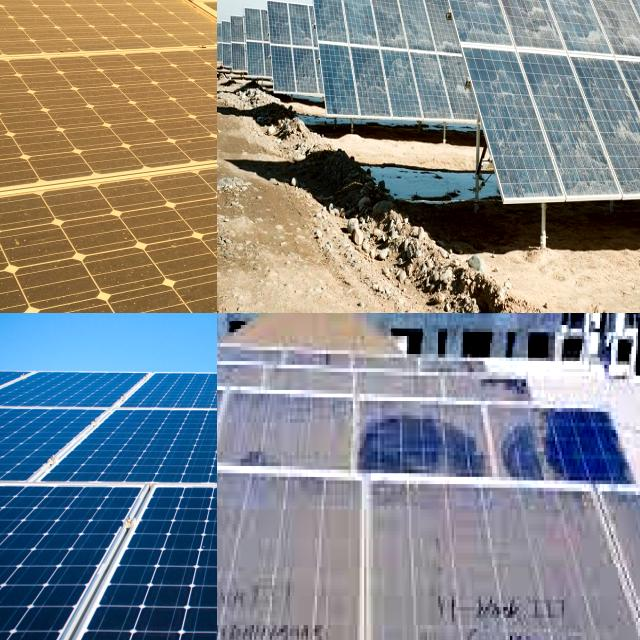crack: (18, 493, 217, 640), (0, 491, 161, 640), (49, 396, 217, 526), (121, 361, 217, 428)
dust: (232, 492, 356, 640), (502, 57, 592, 205), (322, 0, 458, 97), (217, 477, 281, 640), (509, 502, 602, 601), (352, 410, 480, 480), (381, 492, 493, 564), (223, 404, 341, 464), (486, 400, 567, 480), (217, 386, 299, 464), (379, 573, 458, 640), (269, 8, 325, 92), (454, 0, 543, 49), (553, 0, 632, 55), (467, 567, 522, 640), (608, 69, 640, 181), (217, 472, 238, 640), (246, 14, 271, 70)
